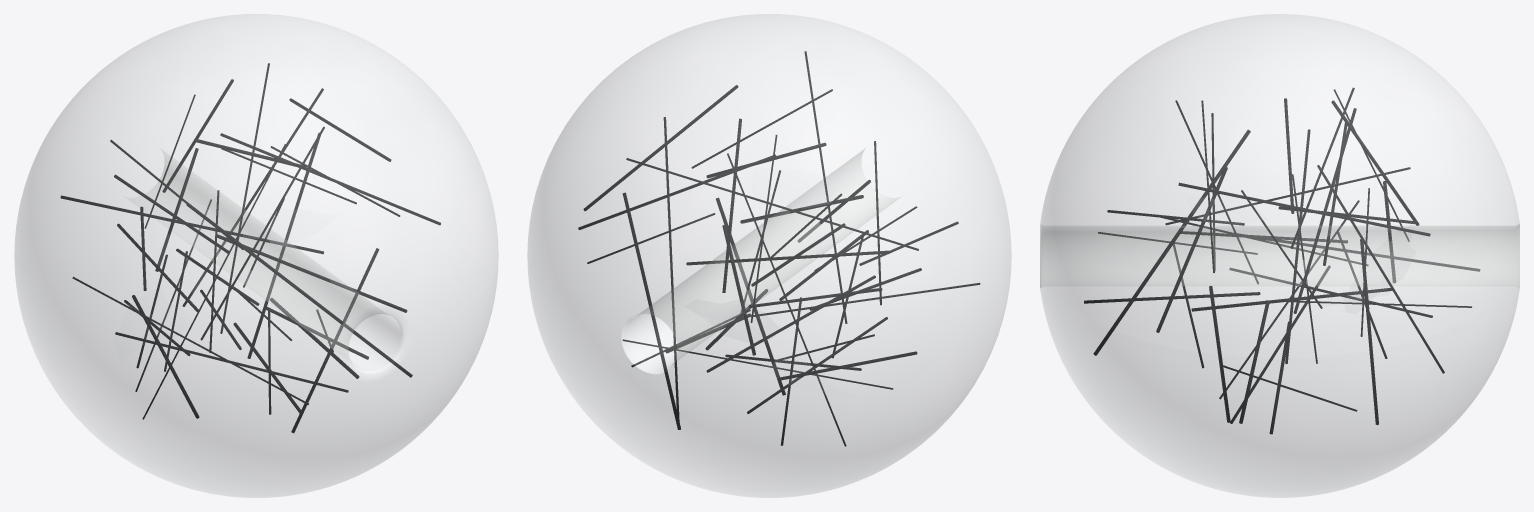
Rendered from black-rutilated-quartz.glb.
3 views of the same model, side by side, from view 1: azimuth 30°, elevation 25°; view 2: azimuth 150°, elevation 25°; view 3: azimuth 270°, elevation 25° (orthographic).
Visible parts, largest first — view 1: black-rutilated-quartz.001, black-rutilated-quartz_WEB_needles_38; view 2: black-rutilated-quartz.001, black-rutilated-quartz_WEB_needles_38; view 3: black-rutilated-quartz.001, black-rutilated-quartz_WEB_needles_38.
Boxes of the visible parts, left/top/right/bottom form: black-rutilated-quartz.001: left=14, top=14, right=498, bottom=497; black-rutilated-quartz_WEB_needles_38: left=60, top=63, right=440, bottom=433; black-rutilated-quartz.001: left=527, top=14, right=1011, bottom=497; black-rutilated-quartz_WEB_needles_38: left=578, top=51, right=980, bottom=446; black-rutilated-quartz.001: left=1040, top=14, right=1519, bottom=497; black-rutilated-quartz_WEB_needles_38: left=1084, top=87, right=1480, bottom=434.
Size of the model in its own units: 0.008 by 0.008 by 0.00793.
Materials: 3 (1 with a texture image).
